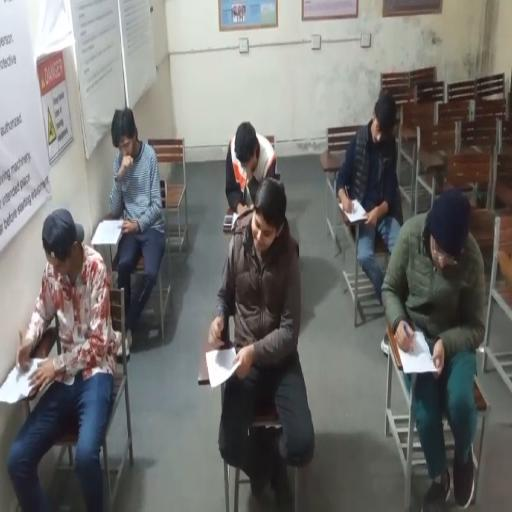paper: (0, 358, 47, 403), (396, 328, 438, 374), (205, 344, 242, 388), (91, 218, 124, 246), (339, 192, 369, 222), (231, 211, 241, 230)
